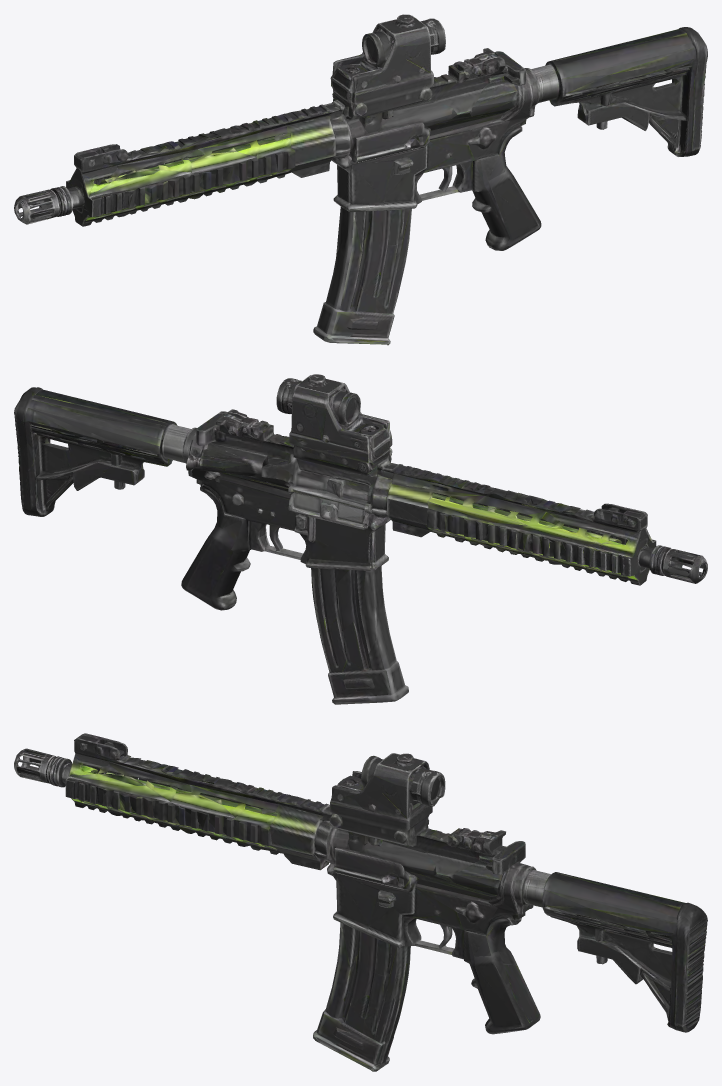
File: gun_rifle.glb
3 views of the same model, one above another, from view 1: azimuth 30°, elevation 25°; view 2: azimuth 150°, elevation 25°; view 3: azimuth 330°, elevation 25° (orthographic).
Parts seen in each view (by area): view 1: Mesh_0; view 2: Mesh_0; view 3: Mesh_0.
Part boxes in pixels (<box>): Mesh_0: <box>14,14,707,345</box>; Mesh_0: <box>14,374,707,704</box>; Mesh_0: <box>14,733,707,1071</box>.
Size of the model in its own units: 1.9 by 0.845 by 0.1597.
Materials: 1 (1 with a texture image).
